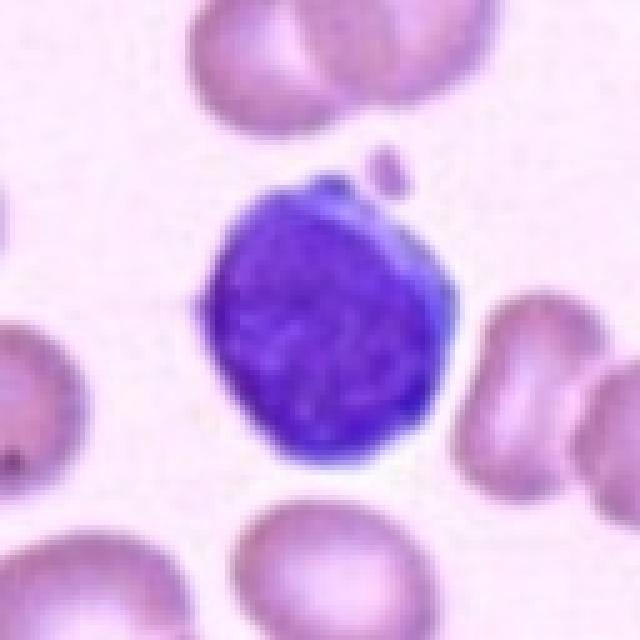lympho: (188, 151, 468, 469)
